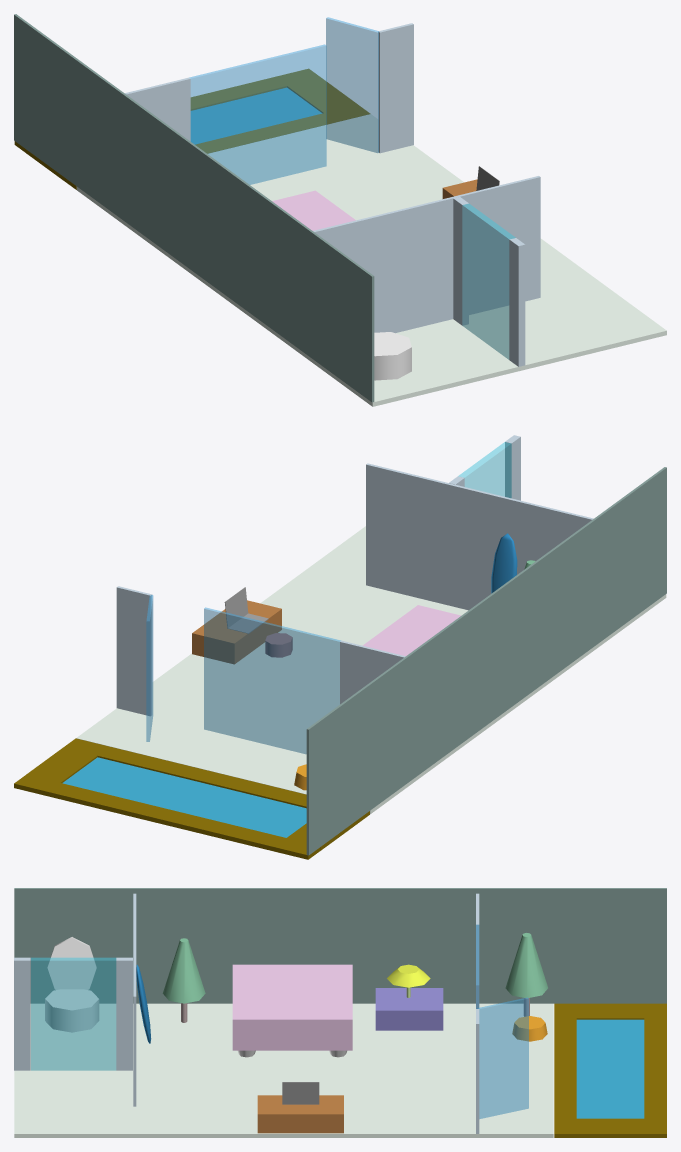
Rendered from home.gltf.
3 renders of one model, top to bottom at view 1: azimuth 30°, elevation 25°; view 2: azimuth 150°, elevation 25°; view 3: azimuth 270°, elevation 25°, orthographic. The views are drawn at different scales.
Parts seen in each view (by area): view 1: Box (×15), Cylinder; view 2: Box (×16), Sphere, Cylinder; view 3: Box (×18), Cylinder (×6), Sphere.
Part boxes in pixels (x1=…): Box (×15): x1=14, y1=14, x2=666, y2=406; Cylinder: x1=374, y1=332, x2=411, y2=380; Box (×16): x1=14, y1=435, x2=666, y2=859; Sphere: x1=491, y1=533, x2=517, y2=593; Cylinder: x1=265, y1=633, x2=292, y2=657; Box (×18): x1=14, y1=888, x2=666, y2=1137; Cylinder (×6): x1=45, y1=933, x2=547, y2=1041; Sphere: x1=136, y1=964, x2=151, y2=1043.
Size of the model in its own units: 6.91 by 2.95 by 14.52.
